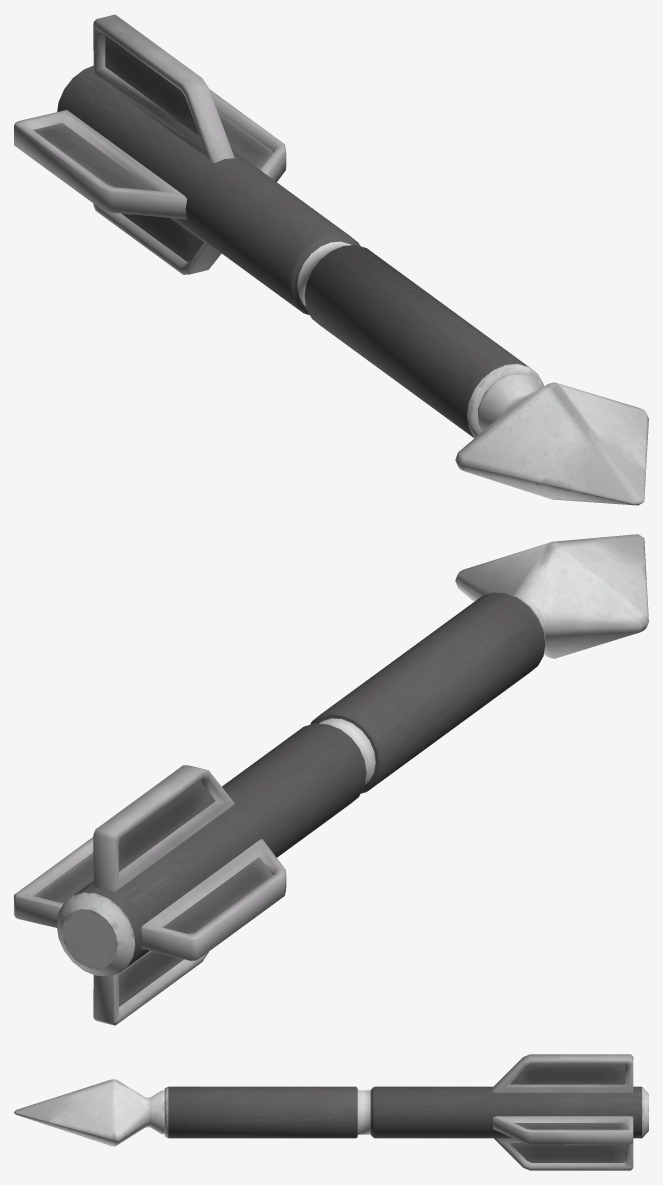
The model's file is Crossbow_Arrow.fbx.
3 renders of one model, top to bottom at view 1: azimuth 30°, elevation 25°; view 2: azimuth 150°, elevation 25°; view 3: azimuth 270°, elevation 25°, orthographic. The views are drawn at different scales.
Parts seen in each view (by area): view 1: Crossbow_Arrow; view 2: Crossbow_Arrow; view 3: Crossbow_Arrow.
Part boxes in pixels (x1,y1,x2,y2): Crossbow_Arrow: [14, 14, 648, 505]; Crossbow_Arrow: [14, 534, 648, 1025]; Crossbow_Arrow: [14, 1054, 648, 1170].
Bounding box in the file's own units: 20.21 × 19.59 × 102.
